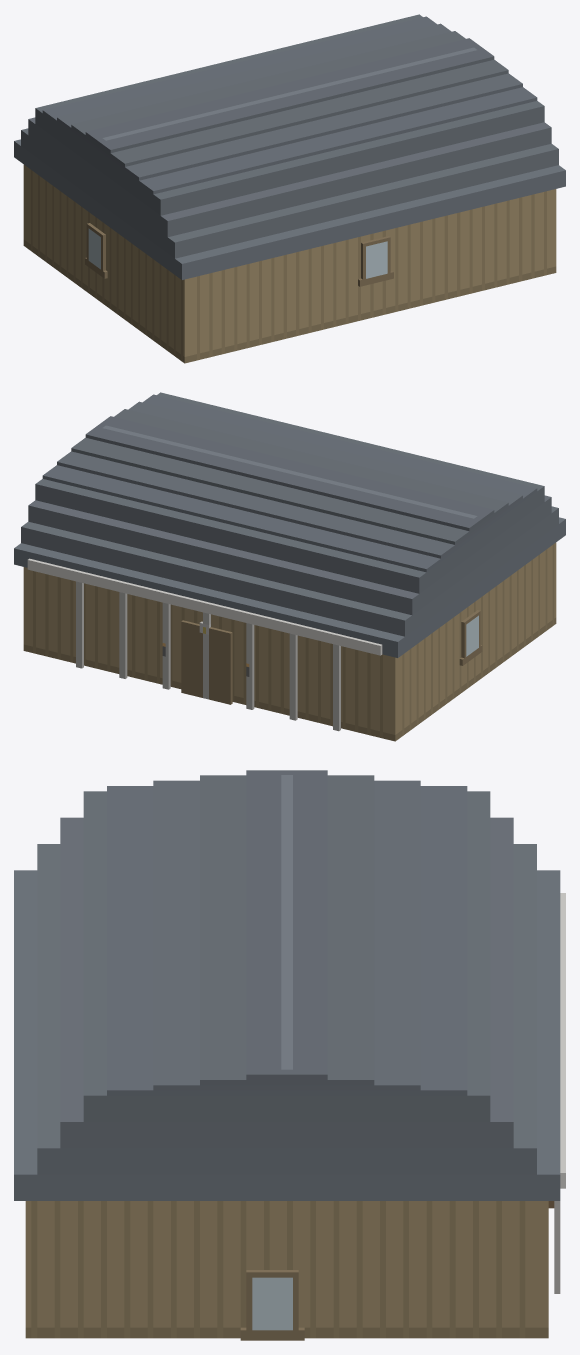
Rendered from museo_02.glb.
The picture shows the model from 3 angles, top to bottom: view 1: azimuth 30°, elevation 25°; view 2: azimuth 150°, elevation 25°; view 3: azimuth 270°, elevation 25°; orthographic projection. The views are drawn at different scales.
Parts seen in each view (by area): view 1: museo_02; view 2: museo_02; view 3: museo_02.
Boxes of the visible parts, x1,y1,x2,y2 form: museo_02: [14, 14, 565, 363]; museo_02: [14, 392, 565, 741]; museo_02: [14, 770, 565, 1340].
Bounding box in the file's own units: 12.4 × 5.1 × 9.5.
